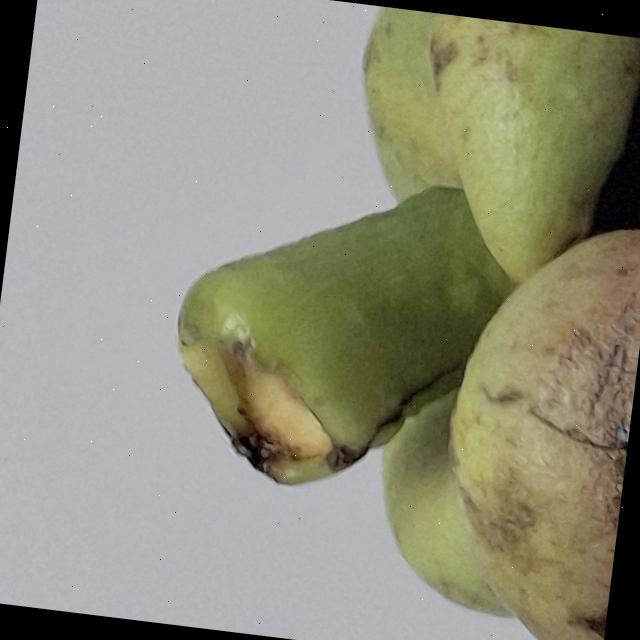mangosteen: (102, 0, 640, 640)
